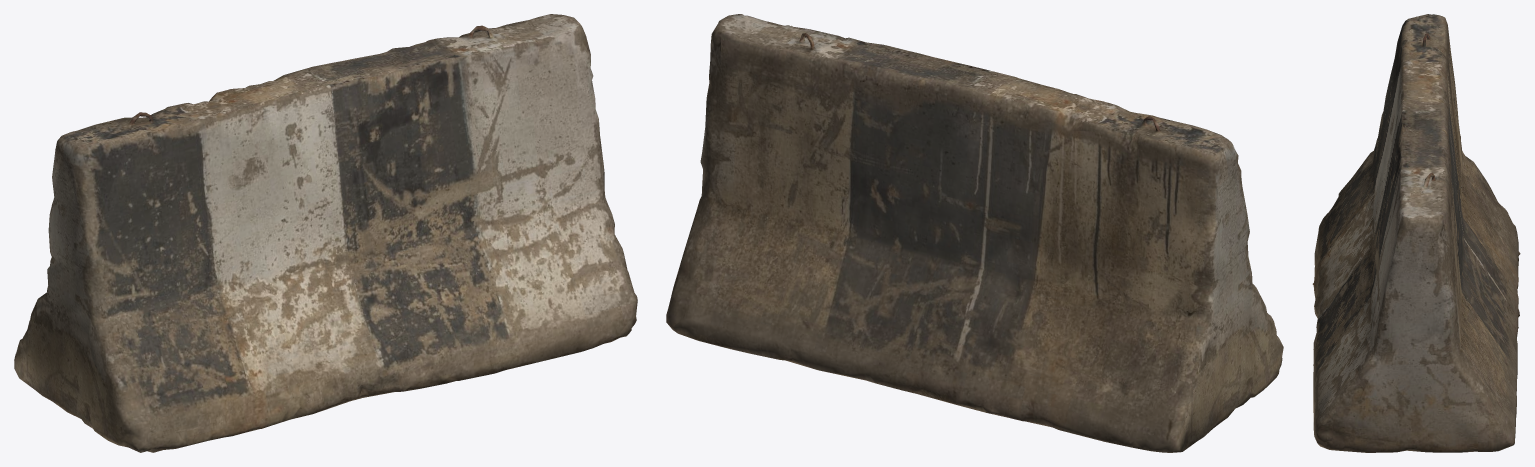
File: concrete_road_barrier.glb
3 views of the same model, side by side, from view 1: azimuth 30°, elevation 25°; view 2: azimuth 150°, elevation 25°; view 3: azimuth 270°, elevation 25° (orthographic). The views are drawn at different scales.
Visible parts, largest first — view 1: concrete_road_barrier; view 2: concrete_road_barrier; view 3: concrete_road_barrier.
Part boxes in pixels (x1,y1,x2,y2): concrete_road_barrier: [14, 14, 637, 452]; concrete_road_barrier: [666, 14, 1283, 452]; concrete_road_barrier: [1312, 14, 1520, 452].
Size of the model in its own units: 1.54 by 0.8304 by 0.6387.
1 material, 1 textured.
